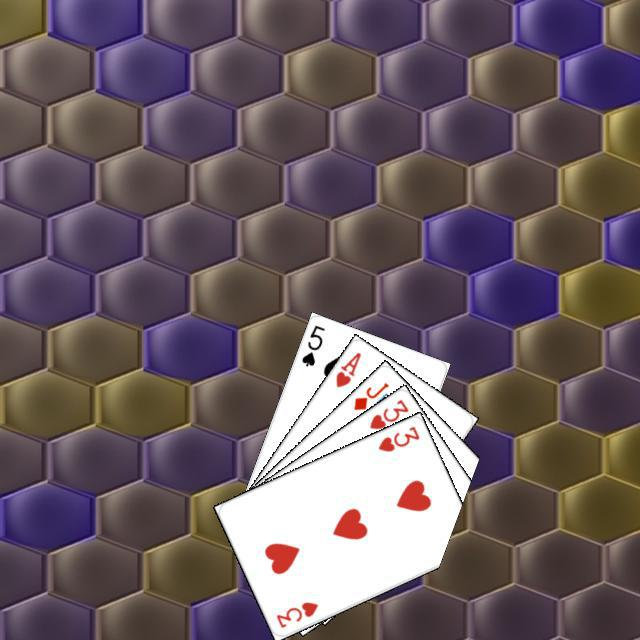3h: (364, 394, 410, 431), (271, 597, 320, 630), (373, 421, 421, 454)
5s: (297, 320, 327, 368)
Ah: (331, 347, 363, 389)
Jd: (348, 377, 391, 412)
